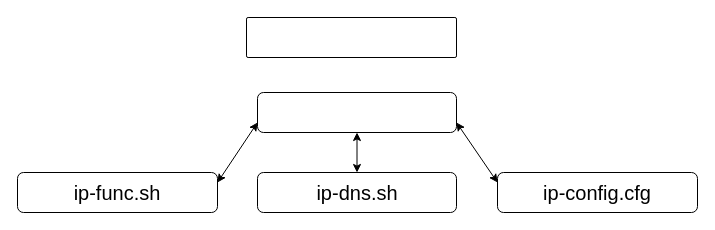
Image size: 715x230. Some labels were removed from this diagram. Each missing label, with the box of its shape:
ip-main.sh: (256, 92, 456, 132)
redes: (246, 16, 456, 58)
